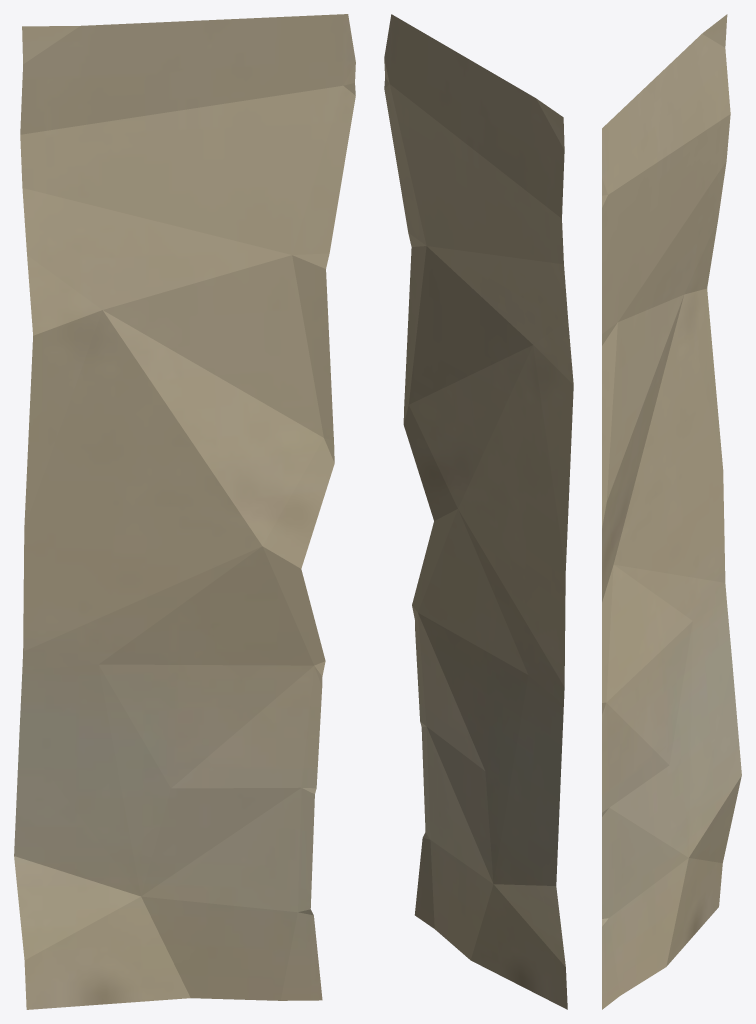
The picture shows the model from 3 angles, left to right: view 1: azimuth 30°, elevation 25°; view 2: azimuth 150°, elevation 25°; view 3: azimuth 270°, elevation 25°; orthographic projection. The views are drawn at different scales.
Bounding box in the file's own units: 0.237 × 0.8374 × 0.1189.
1 material, 1 textured.
